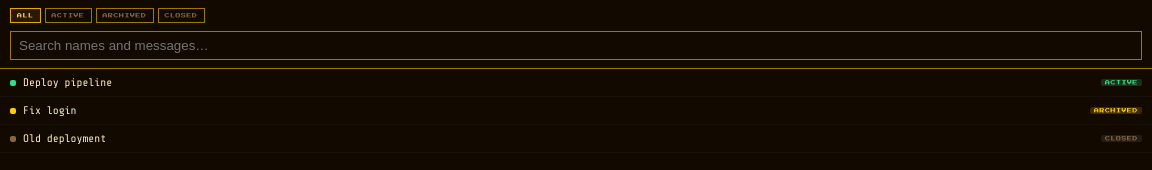
ConversationList › ignores outdated search responses after clearing the search
Type "needle" into the search field with placeholder "Search names and messages…" at coordinates (576, 46), box [10,31,1142,60]
Wait 250 ms
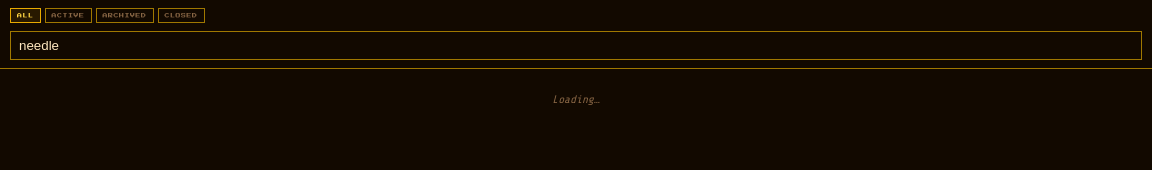
Clear the search field named "Search conversation names and messages" at coordinates (576, 46), box [10,31,1142,60]
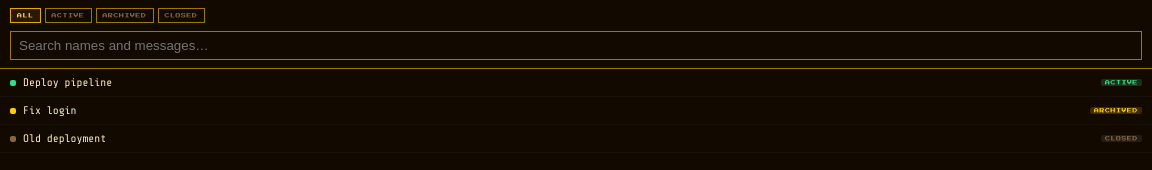
Now the number of elements with class "conversation-row" is 3, box [0,69,1151,97]; [0,97,1151,125]; [0,125,1151,153]
